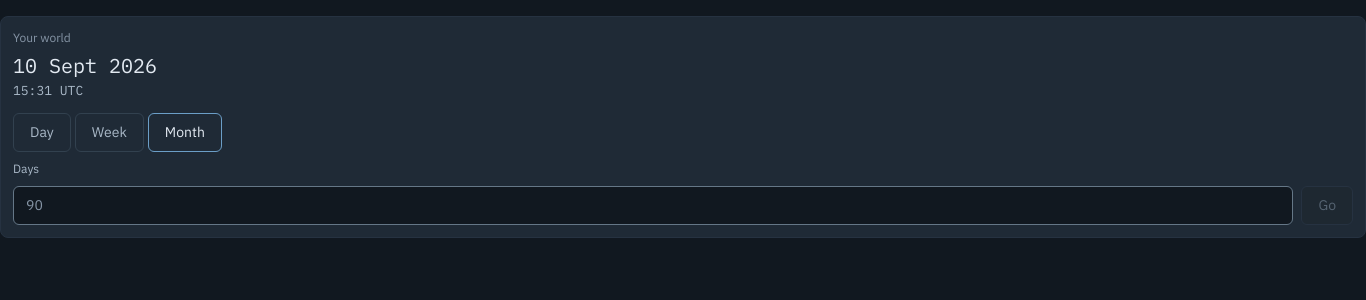
winding the clock › passes on what the service said when the world has been wound as far as it goes
What coordinates should you click on to do the following:
click the button "Month"
I would click on:
 (185, 132)
Its box is [148,112,222,152].
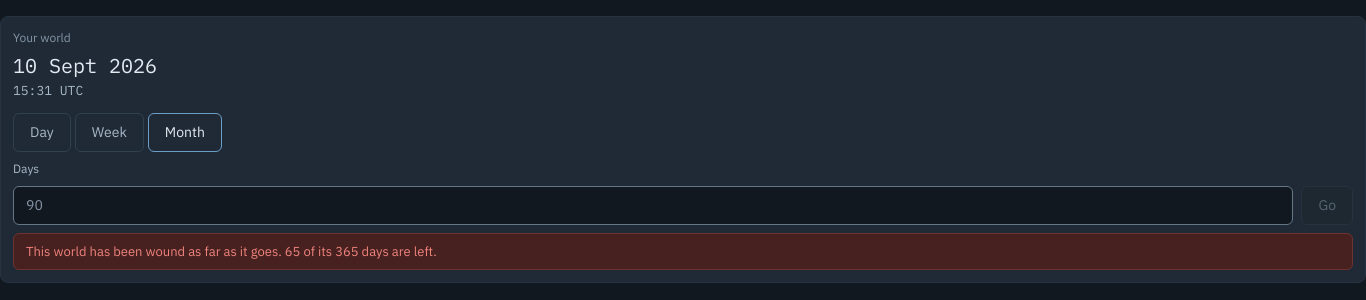
Check: the text "65 of its 365 days are left" is shown, box [26,242,437,260]
